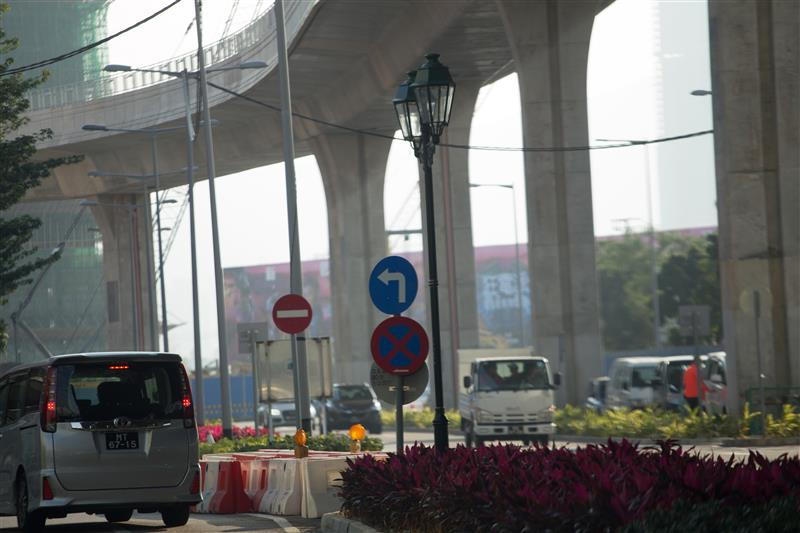leftTurnOnly: (368, 255, 419, 316)
noEntry: (272, 294, 313, 334)
noStopping: (370, 315, 430, 374)
